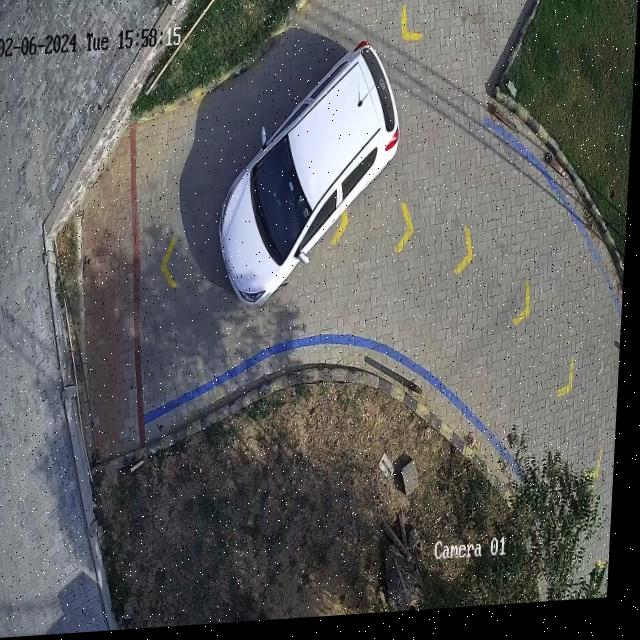car: (220, 51, 401, 311)
